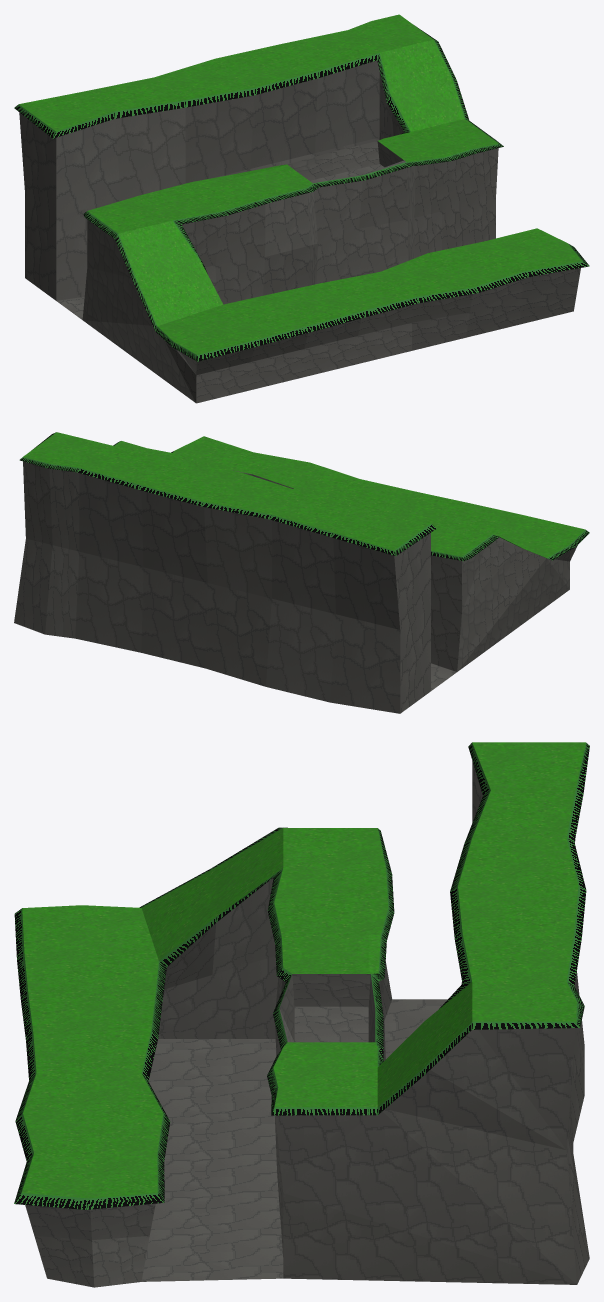
File: LVL5.obj
3 views of the same model, one above another, from view 1: azimuth 30°, elevation 25°; view 2: azimuth 150°, elevation 25°; view 3: azimuth 270°, elevation 25° (orthographic). The views are drawn at different scales.
Visible parts, largest first — view 1: Plane_Plane.002; view 2: Plane_Plane.002; view 3: Plane_Plane.002.
Boxes of the visible parts, x1,y1,x2,y2 form: Plane_Plane.002: (14, 14, 589, 403); Plane_Plane.002: (14, 432, 589, 713); Plane_Plane.002: (14, 742, 589, 1287).
Size of the model in its own units: 15.06 by 6 by 12.2.
